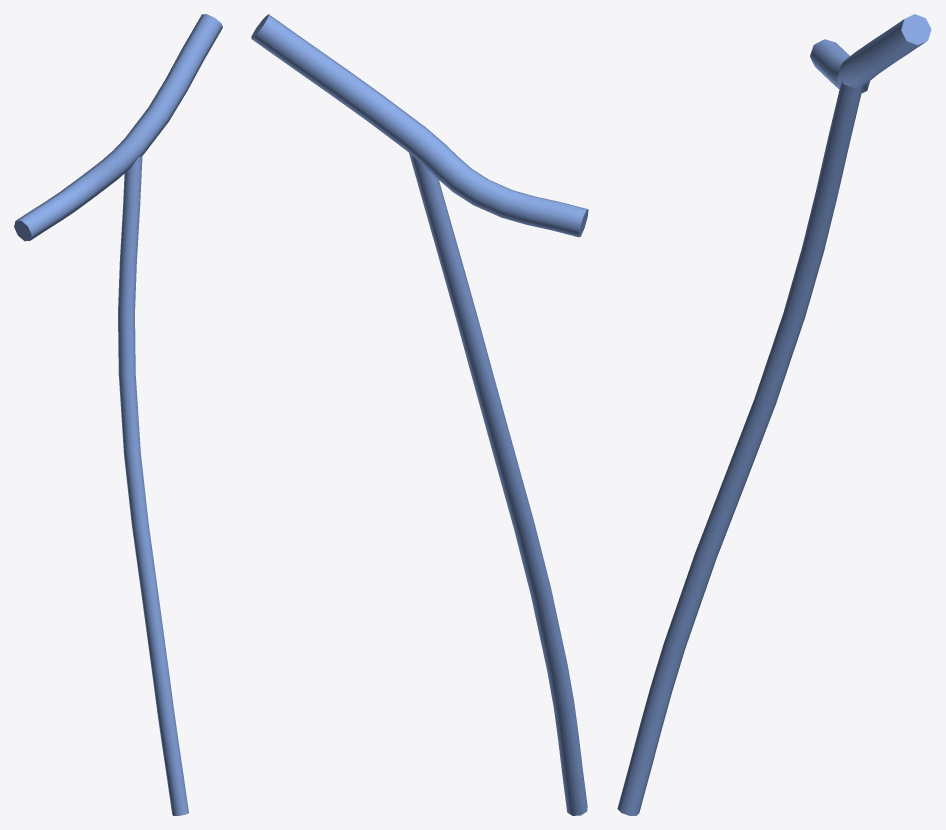
Rendered from veine-mediane-coude.glb.
The picture shows the model from 3 angles, left to right: view 1: azimuth 30°, elevation 25°; view 2: azimuth 150°, elevation 25°; view 3: azimuth 270°, elevation 25°; orthographic projection. The views are drawn at different scales.
Visible parts, largest first — view 1: veine-mediane-coude; view 2: veine-mediane-coude; view 3: veine-mediane-coude.
Boxes of the visible parts, <box> form: veine-mediane-coude: <box>14,14,222,815</box>; veine-mediane-coude: <box>251,14,588,815</box>; veine-mediane-coude: <box>617,14,931,815</box>.
Bounding box in the file's own units: 0.0403 × 0.1125 × 0.0362.
